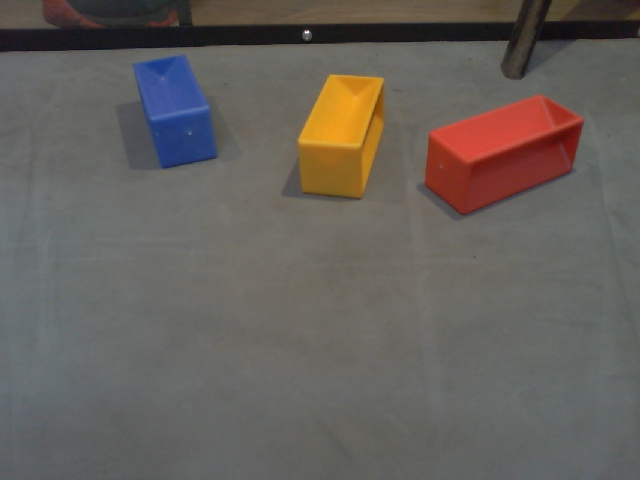BlueSample: (129, 51, 222, 175)
RedSample: (422, 92, 585, 217)
YellowSample: (293, 68, 388, 211)
